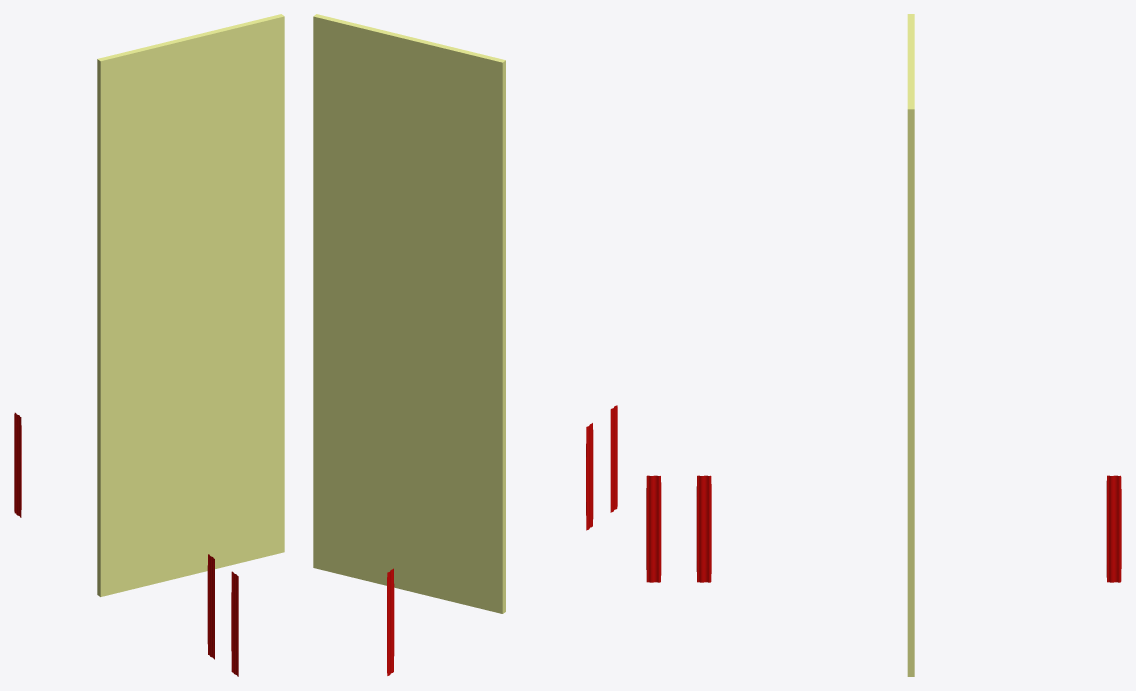
File: wall.fbx
The picture shows the model from 3 angles, left to right: view 1: azimuth 30°, elevation 25°; view 2: azimuth 150°, elevation 25°; view 3: azimuth 270°, elevation 25°; orthographic projection. The views are drawn at different scales.
Parts seen in each view (by area): view 1: Wall.001, Cube.002; view 2: Wall.001, Cube.002; view 3: Wall.001, Cube.002.
Part boxes in pixels (x1,y1,x2,y2): Wall.001: (97, 14, 284, 596); Cube.002: (14, 412, 238, 676); Wall.001: (313, 14, 505, 613); Cube.002: (387, 405, 617, 675); Wall.001: (907, 14, 914, 676); Cube.002: (646, 475, 1121, 582).
Bounding box in the file's own units: 6493 × 18049 × 13693.
